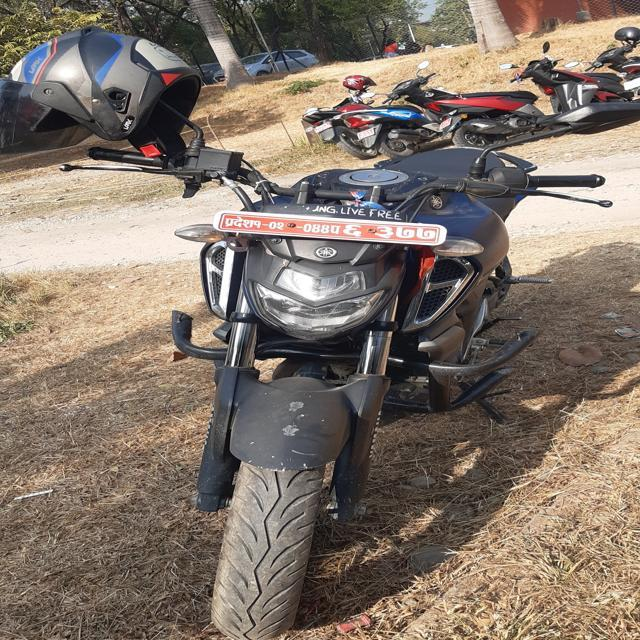license_plate: (201, 188, 451, 263)
